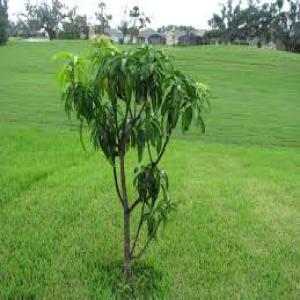Tree: (52, 34, 209, 277)
